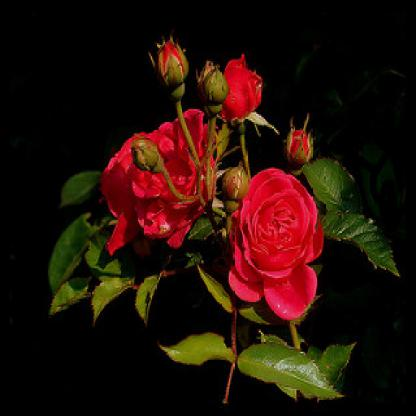ROSE-MAWAR: (93, 16, 330, 326)
